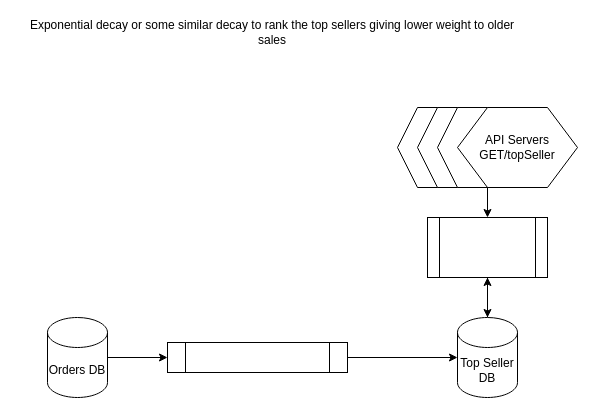
Image size: 595x415. Some labels were removed from this diagram. Here are the shapes that lost their labels. From the top down, the centre of each, then its label:
At (487,247): "Cache".
At (257,357): "Streaming solution to derive the top sellers".
